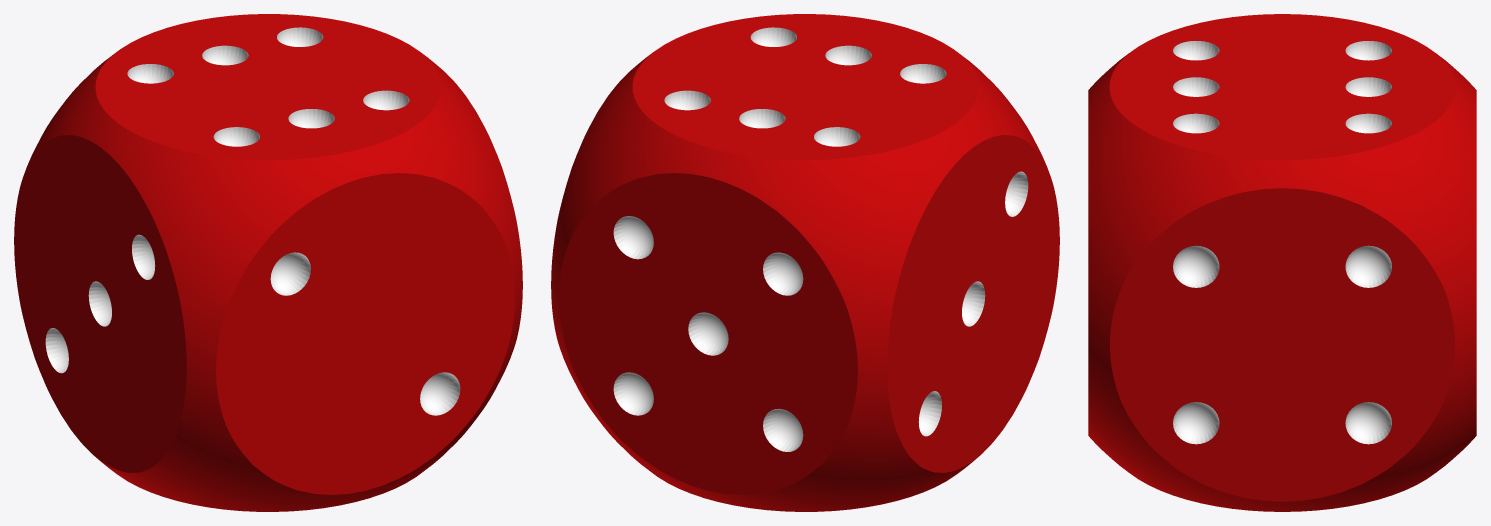
Rendered from Dice.fbx.
3 renders of one model, left to right at view 1: azimuth 30°, elevation 25°; view 2: azimuth 150°, elevation 25°; view 3: azimuth 270°, elevation 25°, orthographic.
Visible parts, largest first — view 1: Cube; view 2: Cube; view 3: Cube.
Boxes of the visible parts, x1,y1,x2,y2 form: Cube: [14, 14, 522, 511]; Cube: [551, 14, 1059, 511]; Cube: [1088, 14, 1476, 511].
Bounding box in the file's own units: 100 × 100 × 100.
